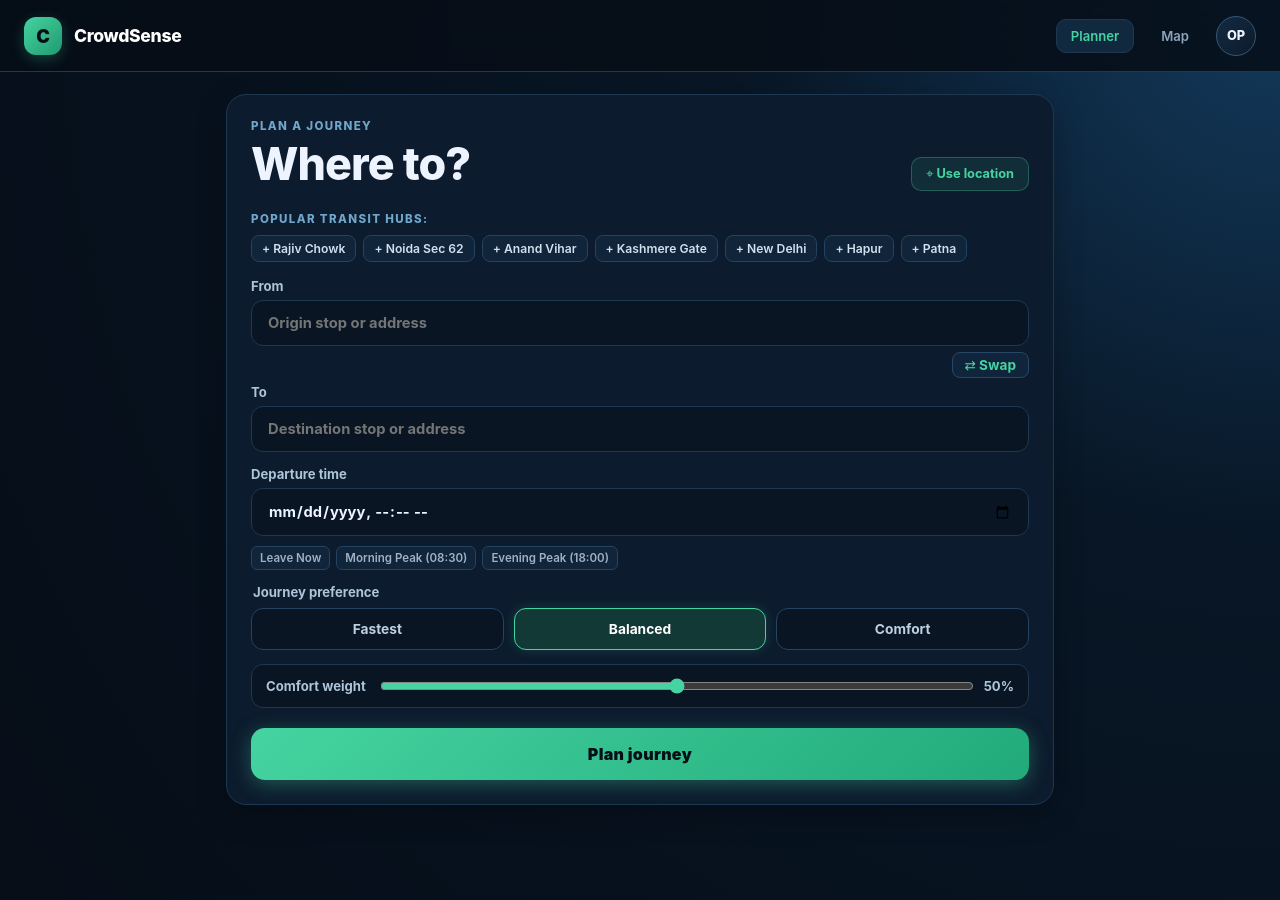
it: CrowdSense journey planner › requires origin and destination
The image size is (1280, 900).
Click the button "Plan journey": (640, 754) [251,728,1029,780]
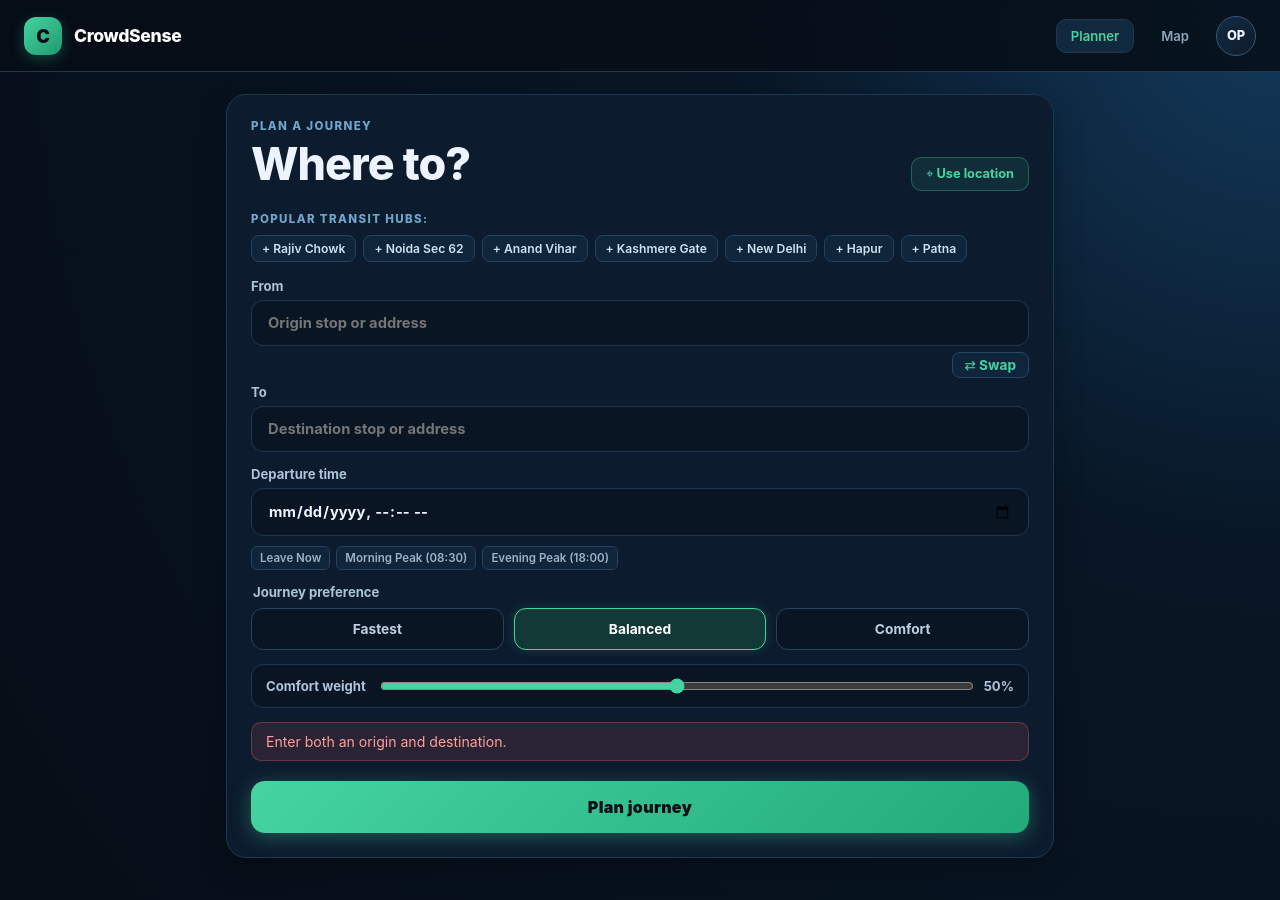
Expected: the message shows "Enter both", [266,733,507,750]
